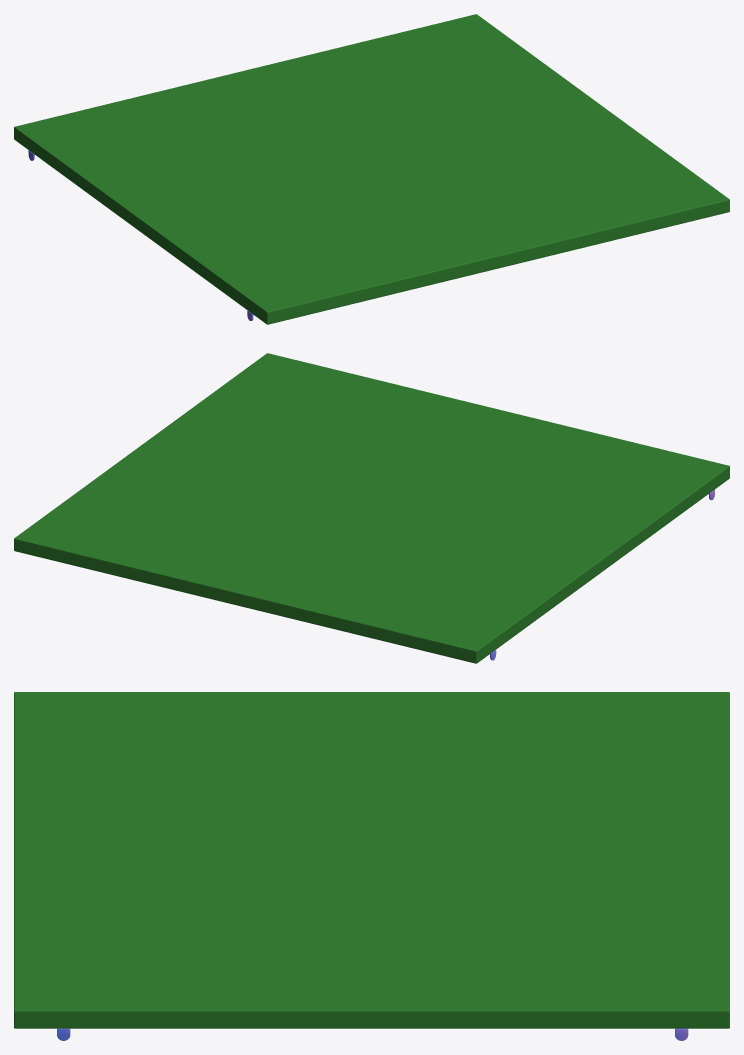
File: SM_Kitchen_01_Shelf.fbx
3 renders of one model, top to bottom at view 1: azimuth 30°, elevation 25°; view 2: azimuth 150°, elevation 25°; view 3: azimuth 270°, elevation 25°, orthographic. The views are drawn at different scales.
Visible parts, largest first — view 1: SM_Kitchen_01_Shelf; view 2: SM_Kitchen_01_Shelf; view 3: SM_Kitchen_01_Shelf.
Part boxes in pixels (left/top/right/bottom): SM_Kitchen_01_Shelf: left=14, top=14, right=729, bottom=324; SM_Kitchen_01_Shelf: left=14, top=353, right=729, bottom=663; SM_Kitchen_01_Shelf: left=14, top=692, right=729, bottom=1040.
Bounding box in the file's own units: 56.19 × 2.49 × 53.29.
Materials: 2 (1 with a texture image).
